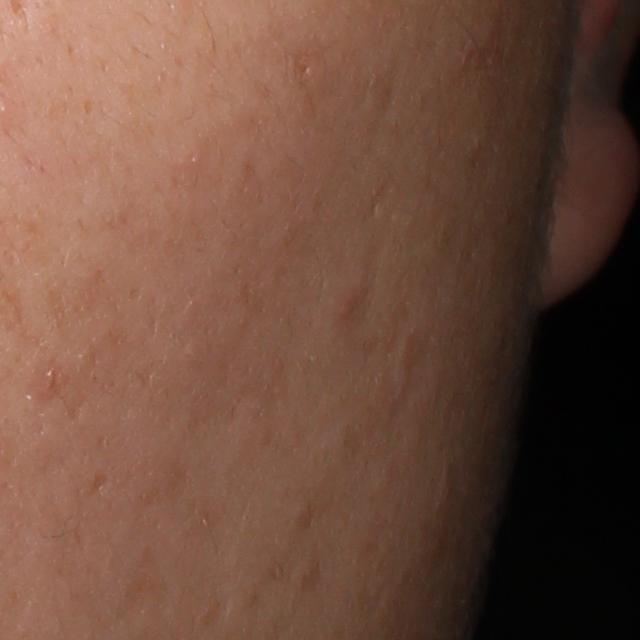atrophic_scar: (87, 469, 107, 497)
papule: (328, 294, 359, 327)
